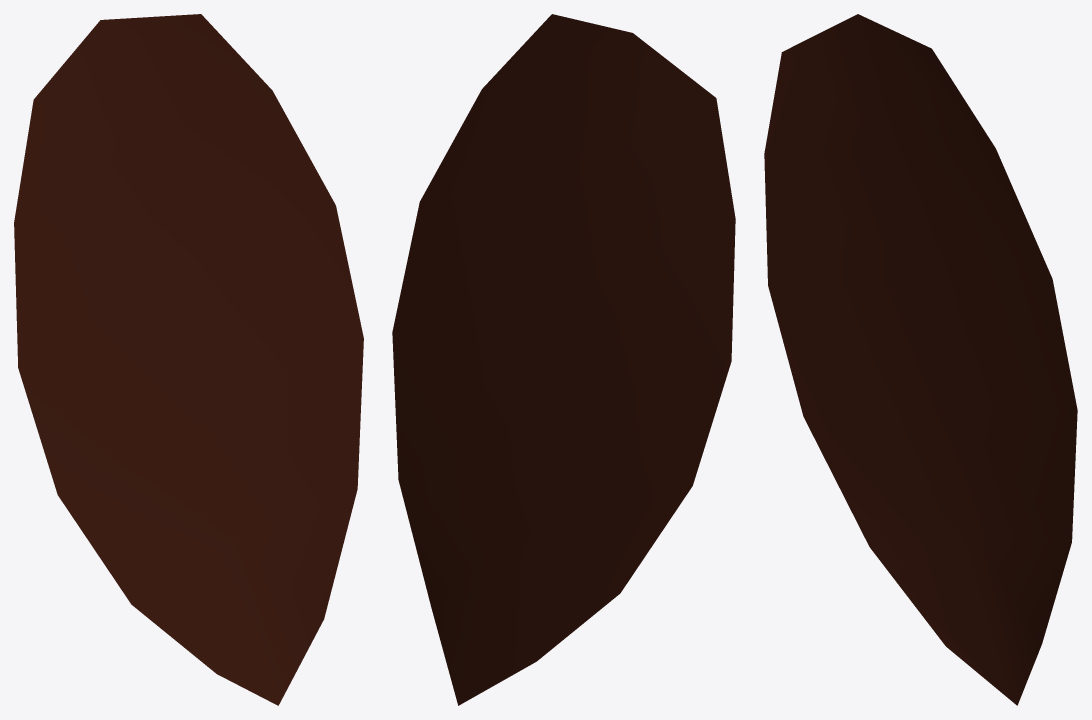
The model's file is rooster_feather_flight_tertiary_052.obj.
The picture shows the model from 3 angles, left to right: view 1: azimuth 30°, elevation 25°; view 2: azimuth 150°, elevation 25°; view 3: azimuth 330°, elevation 25°; orthographic projection. The views are drawn at different scales.
Parts seen in each view (by area): view 1: feather_flight_tertiary_052; view 2: feather_flight_tertiary_052; view 3: feather_flight_tertiary_052.
Boxes of the visible parts, x1=… form: feather_flight_tertiary_052: x1=14, y1=14, x2=363, y2=705; feather_flight_tertiary_052: x1=392, y1=14, x2=735, y2=705; feather_flight_tertiary_052: x1=764, y1=14, x2=1077, y2=705.
Size of the model in its own units: 0.0111 by 0.0222 by 0.000502.
